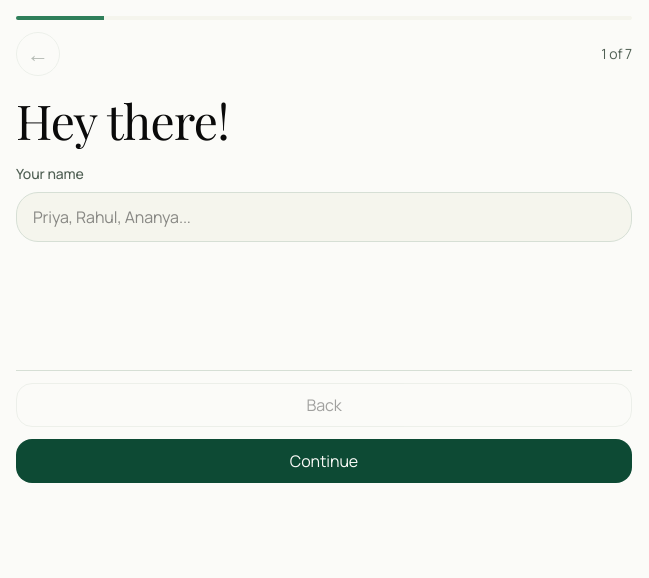
Test: ChatOnboardingFlow progressive onboarding › validates first step name before continue
What coordinates should you click on to do the following:
click the button "Continue"
I would click on:
 (324, 461)
Its box is [16,439,632,483].
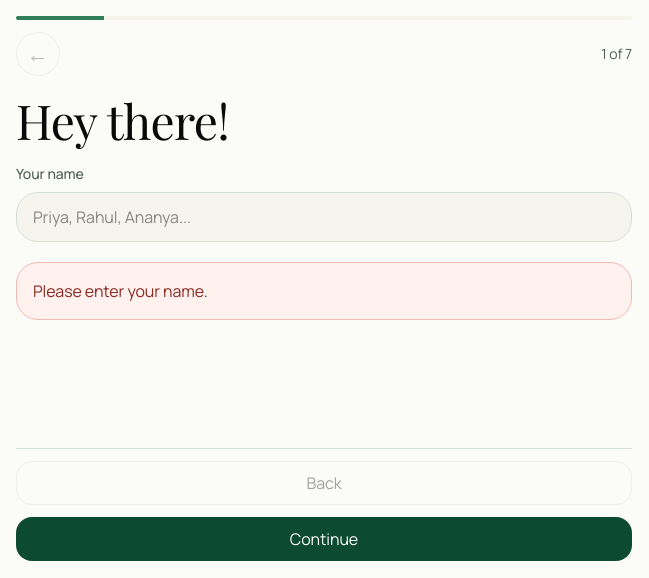
Now the message reads "Please enter your name.", box [33,280,208,302]
